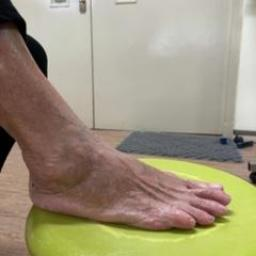Lateral View -Right Foot-: (11, 95, 243, 248)
